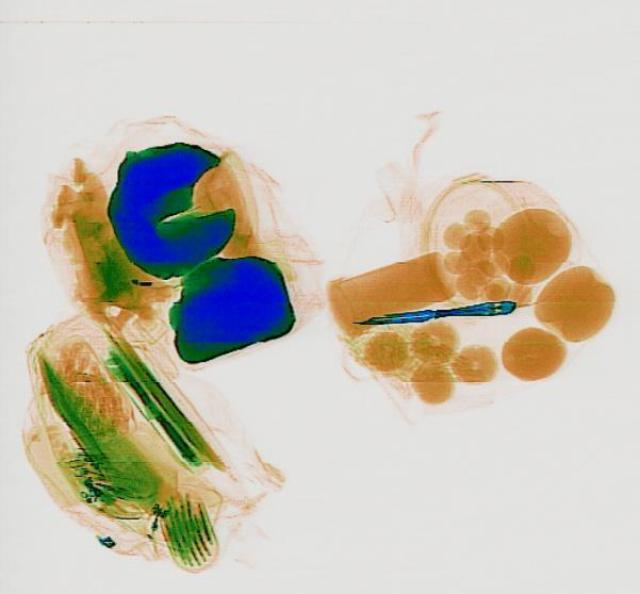Knife: (352, 298, 514, 324)
